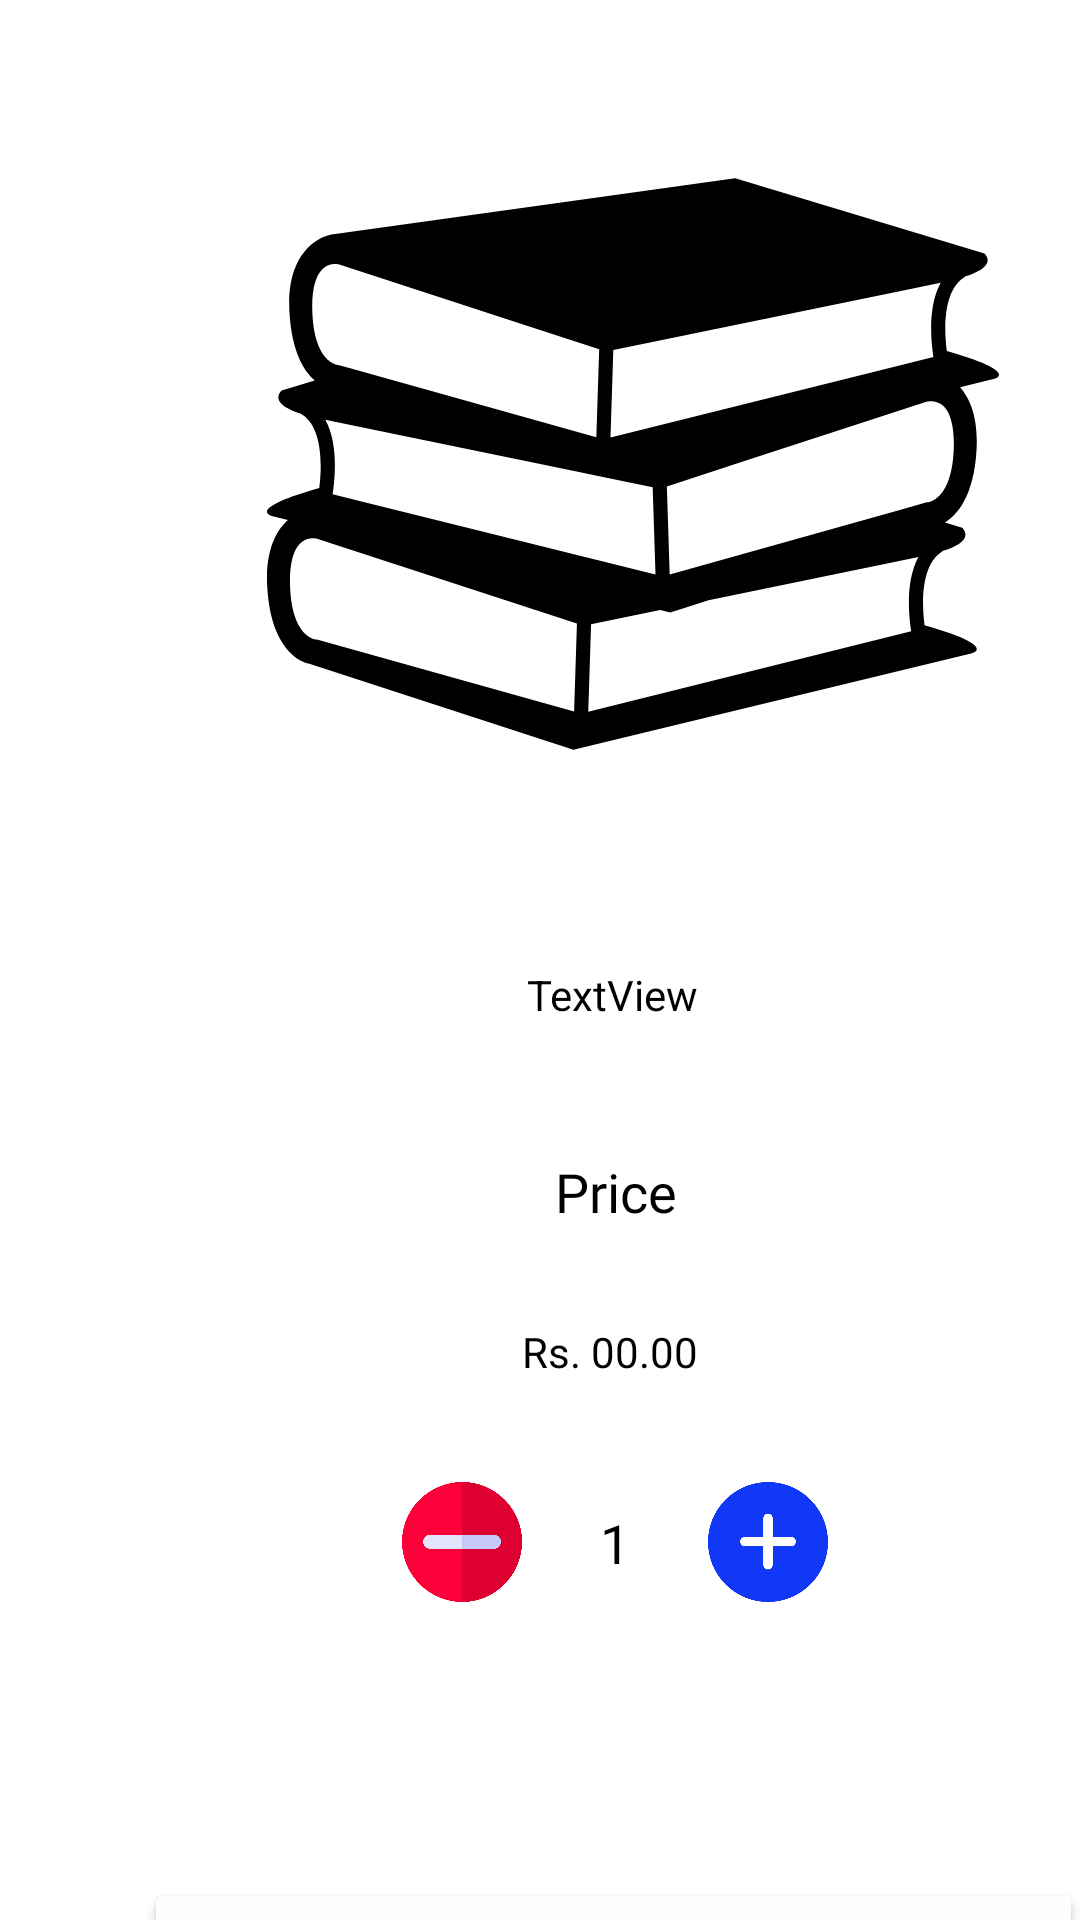

Screen size 1080*1920. Icon name, then its box in pixels as (x1, y1, x2, y2):
add: (708, 1482, 828, 1602)
minus: (402, 1482, 522, 1602)
